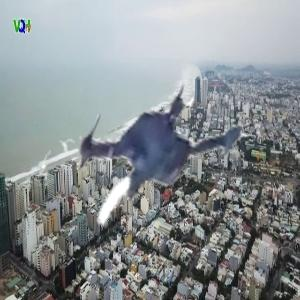drone: (38, 50, 258, 270)
